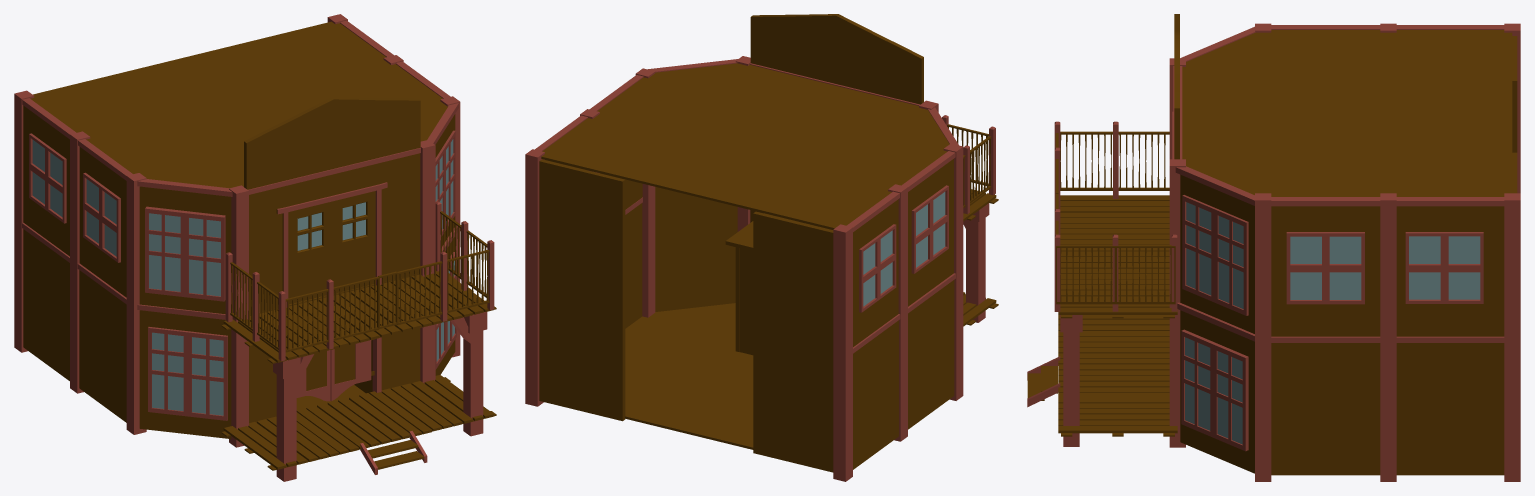
Rendered from Env_Saloon.fbx.
3 views of the same model, side by side, from view 1: azimuth 30°, elevation 25°; view 2: azimuth 150°, elevation 25°; view 3: azimuth 270°, elevation 25° (orthographic). The views are drawn at different scales.
Visible parts, largest first — view 1: Roof, Wall_Window_2, Wood_Pillar_two_Storey, Door_Frame, Sinage, Fence, Flat_Roof, Wall_Standard2, Wall_Standard4, Deck_Support, door, Door (+25 smaller); view 2: Roof, Wood_Pillar_two_Storey, Floor, Wall_Standard7, Wall_Standard5, Sinage, Wall_Standard8, Wall_Standard6, Wall_Window_2, Wall_Standard2, Wall_Standard4, Flat_Roof (+10 smaller); view 3: Roof, Wall_Window_2, Wood_Pillar_two_Storey, Wall_Standard1, Wall_Standard3, Wall1, Wall2, Flat_Roof, Window1, Window2, Fence, Deck_Support (+43 smaller).
Boxes of the visible parts, <box> form: Roof: <box>30,21,447,188</box>; Wall_Window_2: <box>139,114,456,438</box>; Wood_Pillar_two_Storey: <box>14,14,460,447</box>; Door_Frame: <box>249,153,420,422</box>; Sinage: <box>244,97,420,189</box>; Fence: <box>231,214,488,349</box>; Flat_Roof: <box>22,20,458,319</box>; Wall_Standard2: <box>79,270,126,422</box>; Wall_Standard4: <box>23,229,69,380</box>; Deck_Support: <box>273,312,487,481</box>; door: <box>288,201,332,304</box>; Door: <box>332,191,375,293</box>; Roof: <box>541,63,949,229</box>; Wood_Pillar_two_Storey: <box>525,56,963,481</box>; Floor: <box>625,303,753,449</box>; Wall_Standard7: <box>539,159,625,301</box>; Wall_Standard5: <box>539,281,625,421</box>; Sinage: <box>750,14,923,104</box>; Wall_Standard8: <box>753,211,833,352</box>; Wall_Standard6: <box>753,333,833,472</box>; Wall_Window_2: <box>655,187,737,311</box>; Wall_Standard2: <box>908,280,954,429</box>; Wall_Standard4: <box>853,320,898,469</box>; Flat_Roof: <box>535,59,958,353</box>; Roof: <box>1182,30,1512,196</box>; Wall_Window_2: <box>1180,174,1254,473</box>; Wood_Pillar_two_Storey: <box>1169,23,1520,481</box>; Wall_Standard1: <box>1271,343,1380,475</box>; Wall_Standard3: <box>1396,343,1504,475</box>; Wall1: <box>1271,206,1380,336</box>; Wall2: <box>1396,206,1504,336</box>; Flat_Roof: <box>1173,25,1504,342</box>; Window1: <box>1286,232,1364,304</box>; Window2: <box>1405,232,1483,303</box>; Fence: <box>1060,134,1171,301</box>; Deck_Support: <box>1060,315,1082,446</box>.
Bounding box in the file's own units: 701 × 660 × 825.
